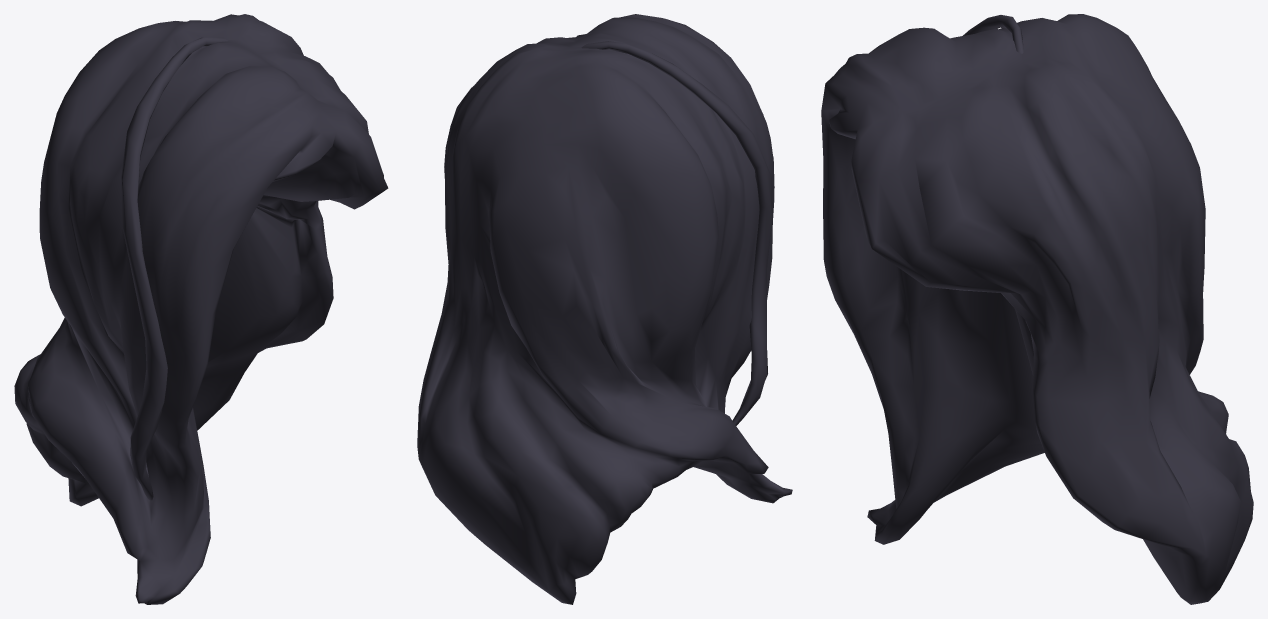
The model's file is mid-length.fbx.
The picture shows the model from 3 angles, left to right: view 1: azimuth 30°, elevation 25°; view 2: azimuth 150°, elevation 25°; view 3: azimuth 270°, elevation 25°; orthographic projection. The views are drawn at different scales.
Parts seen in each view (by area): view 1: Wolf3D_Hair; view 2: Wolf3D_Hair; view 3: Wolf3D_Hair.
Part boxes in pixels (left/top/right/bottom): Wolf3D_Hair: left=14, top=14, right=388, bottom=604; Wolf3D_Hair: left=417, top=14, right=792, bottom=604; Wolf3D_Hair: left=821, top=14, right=1253, bottom=604.
Bounding box in the file's own units: 22.39 × 38.87 × 25.65.
